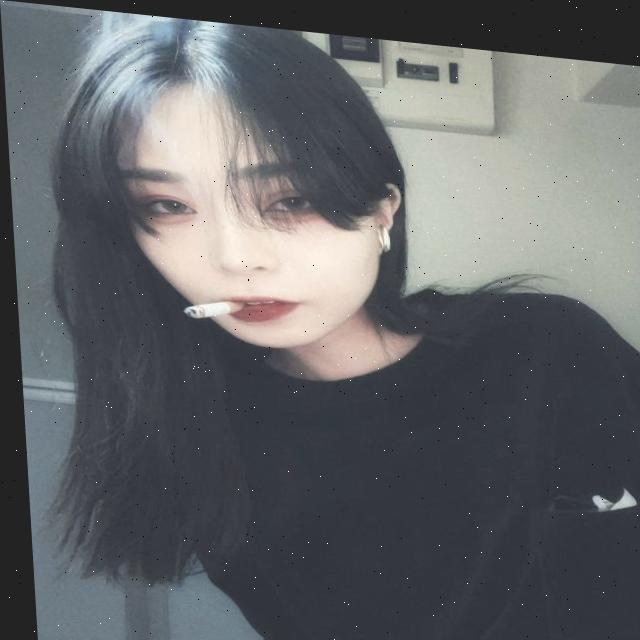cigarette: (181, 291, 242, 319)
